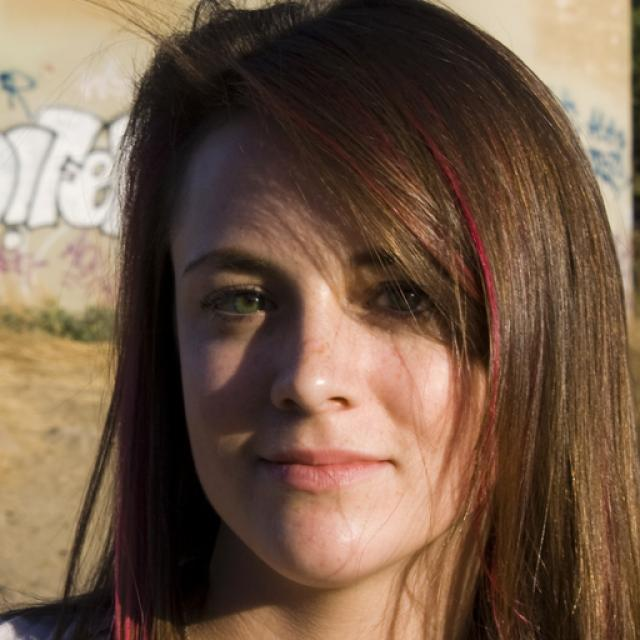content: (177, 109, 478, 586)
